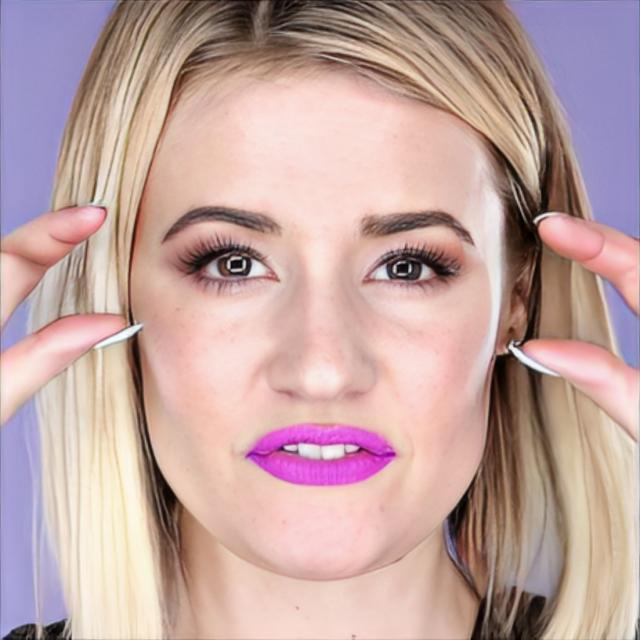disgust: (126, 48, 502, 578)
